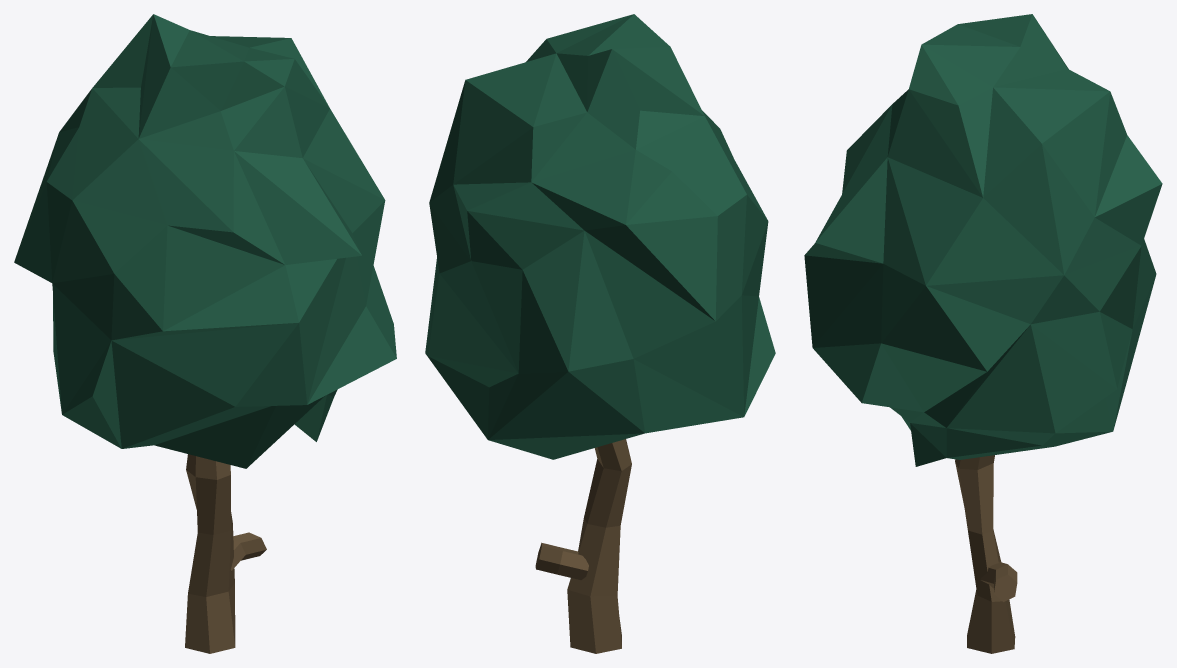
Rendered from Tree2.fbx.
3 views of the same model, side by side, from view 1: azimuth 30°, elevation 25°; view 2: azimuth 150°, elevation 25°; view 3: azimuth 270°, elevation 25° (orthographic).
Parts seen in each view (by area): view 1: pCube1, pCylinder1, pCylinder2; view 2: pCube1, pCylinder1, pCylinder2; view 3: pCube1, pCylinder1, pCylinder2.
Part boxes in pixels (<box>): pCube1: <box>14,14,396,468</box>; pCylinder1: <box>185,454,235,653</box>; pCylinder2: <box>231,532,266,571</box>; pCube1: <box>425,14,775,459</box>; pCylinder1: <box>567,439,631,653</box>; pCylinder2: <box>535,542,588,579</box>; pCube1: <box>804,14,1162,466</box>; pCylinder1: <box>955,455,1015,653</box>; pCylinder2: <box>980,561,1017,601</box>.
Bounding box in the file's own units: 12.5 × 23.57 × 12.53.
